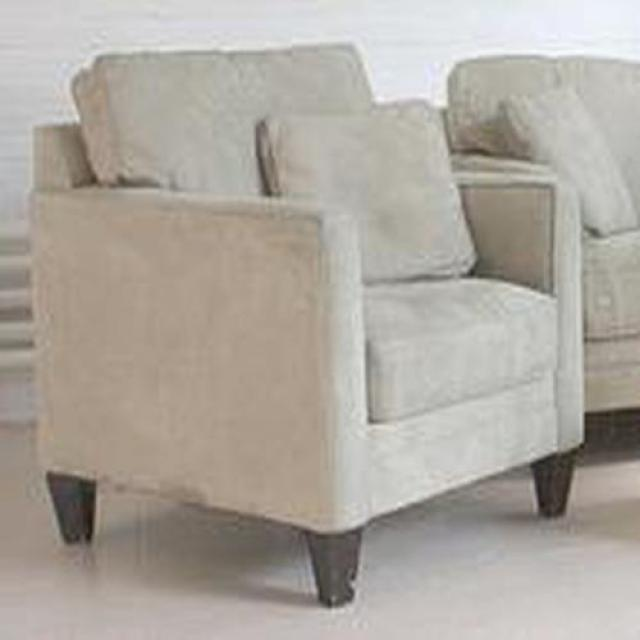sofa: (27, 40, 586, 609)
